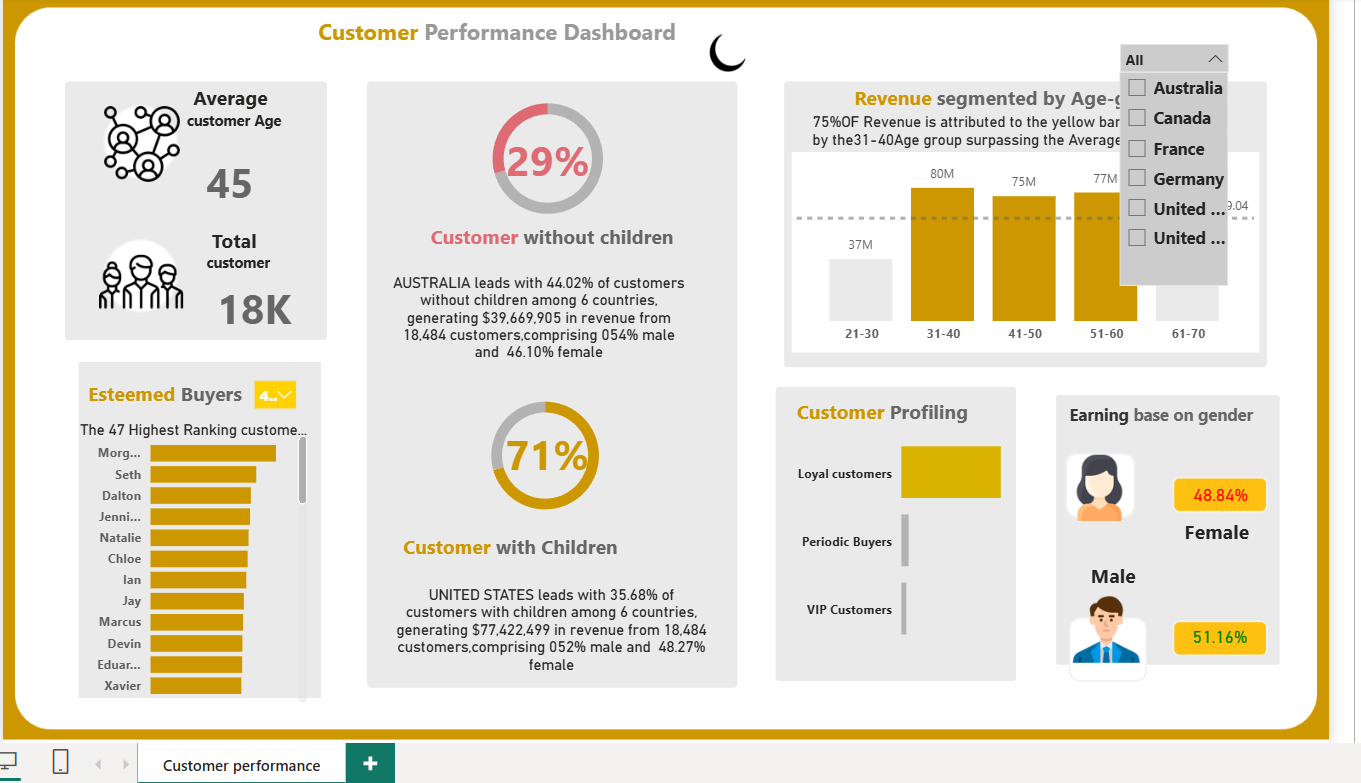

Layout of this report page (visuals, bound fields, positions):
{"tool":"powerbi","page":{"name":"Customer performance","canvas":[1280,720],"ordinal":0},"visuals":[{"type":"clusteredColumnChart","fields":{"Category":["DimCustomer.Age catagory"],"Y":["All measures.Total revenue","All measures.Total revenue"]},"box":[761.1,150,451.1,193.3],"z":0},{"type":"card","fields":{"Values":["Customer measures.Avg Caption"]},"box":[761.1,102.2,433.3,54.4],"z":1000},{"type":"textbox","box":[816.2,80,322.5,40],"z":2000},{"type":"donutChart","fields":{"Y":["Customer measures.%CWC_Revenue","Customer measures.%Customer Without Children _Revenue"]},"box":[441.1,84.4,168.9,143.3],"z":3000},{"type":"donutChart","fields":{"Y":["Customer measures.%CWC_Revenue","Customer measures.%Customer Without Children _Revenue"]},"box":[436.7,372.2,173.3,140],"z":4000},{"type":"card","fields":{"Values":["Customer measures.%Customer Without Children _Revenue"]},"box":[480,115.6,92.2,82.2],"z":5000},{"type":"card","fields":{"Values":["Customer measures.%CWC_Revenue"]},"box":[421.1,415.6,208.9,52.2],"z":6000},{"type":"textbox","box":[407.5,214.1,328,52.1],"z":7000},{"type":"textbox","box":[381.1,512.2,327.8,73.3],"z":8000},{"type":"card","fields":{"Values":["Customer measures.caption customers with children"]},"box":[362.2,246.7,314.4,125.6],"z":9000},{"type":"card","fields":{"Values":["Customer measures.caption customers without children"]},"box":[362.2,557.8,338.9,105.6],"z":10000},{"type":"clusteredBarChart","fields":{"Category":["DimCustomer.Customer type"],"Y":["All measures.Total revenue"]},"box":[761.2,395,216.2,255],"z":11000},{"type":"clusteredBarChart","fields":{"Category":["DimCustomer.FirstName"],"Y":["All measures.Dynamic customers"]},"box":[73.8,411.2,225,275],"z":12000},{"type":"slicer","fields":{"Values":["Dynamic Customers.Dynamic Customers"]},"box":[231.1,360,62.2,45.6],"z":13000},{"type":"card","fields":{"Values":["Customer measures.%Male"]},"box":[1115,586.2,120,63.8],"z":14000},{"type":"card","fields":{"Values":["Customer measures.%Female"]},"box":[1138.8,466.2,73.8,31.2],"z":15000},{"type":"card","fields":{"Values":["Customer measures.Average customer age"]},"box":[187.8,150,62.2,56.7],"z":16000},{"type":"card","fields":{"Values":["Customer measures.#Customers"]},"box":[187.5,276.2,111.2,47.5],"z":17000},{"type":"textbox","box":[137.8,80,155.6,70],"z":18000},{"type":"textbox","box":[160,216.7,142.2,60],"z":19000},{"type":"textbox","box":[1093.8,498.8,141.2,41.2],"z":20000},{"type":"textbox","box":[1003.8,540,161.2,52.5],"z":21000},{"type":"textbox","box":[77.5,365,172.5,35],"z":22000},{"type":"card","fields":{"Values":["Customer measures.Title Top Customers"]},"box":[68.8,400,230,36.2],"z":23000},{"type":"textbox","box":[1023.8,387.5,211.2,48.8],"z":24000},{"type":"textbox","box":[298.8,13.8,358.8,40],"z":25000},{"type":"slicer","fields":{"Values":["DimGeography.Country"]},"box":[1067.5,35,125,38.8],"z":26000},{"type":"textbox","box":[761.2,382.5,225,58.8],"z":27000}]}

Visuals, with their boxes on the page's 1280x720 design canvas (x1, y1, x2, y2). These are canvas units, not pixel positions in the 1361x783 screenshot, which may show the page scaled, cropped or inside an application window:
clusteredColumnChart - DimCustomer.Age catagory x All measures.Total revenue: l=761, t=150, r=1212, b=343
card - Customer measures.Avg Caption: l=761, t=102, r=1194, b=157
textbox: l=816, t=80, r=1139, b=120
donutChart - Customer measures.%CWC_Revenue x Customer measures.%Customer Without Children _Revenue: l=441, t=84, r=610, b=228
donutChart - Customer measures.%CWC_Revenue x Customer measures.%Customer Without Children _Revenue: l=437, t=372, r=610, b=512
card - Customer measures.%Customer Without Children _Revenue: l=480, t=116, r=572, b=198
card - Customer measures.%CWC_Revenue: l=421, t=416, r=630, b=468
textbox: l=408, t=214, r=736, b=266
textbox: l=381, t=512, r=709, b=586
card - Customer measures.caption customers with children: l=362, t=247, r=677, b=372
card - Customer measures.caption customers without children: l=362, t=558, r=701, b=663
clusteredBarChart - DimCustomer.Customer type x All measures.Total revenue: l=761, t=395, r=977, b=650
clusteredBarChart - DimCustomer.FirstName x All measures.Dynamic customers: l=74, t=411, r=299, b=686
slicer - Dynamic Customers.Dynamic Customers: l=231, t=360, r=293, b=406
card - Customer measures.%Male: l=1115, t=586, r=1235, b=650
card - Customer measures.%Female: l=1139, t=466, r=1213, b=497
card - Customer measures.Average customer age: l=188, t=150, r=250, b=207
card - Customer measures.#Customers: l=188, t=276, r=299, b=324
textbox: l=138, t=80, r=293, b=150
textbox: l=160, t=217, r=302, b=277
textbox: l=1094, t=499, r=1235, b=540
textbox: l=1004, t=540, r=1165, b=592
textbox: l=78, t=365, r=250, b=400
card - Customer measures.Title Top Customers: l=69, t=400, r=299, b=436
textbox: l=1024, t=388, r=1235, b=436
textbox: l=299, t=14, r=658, b=54
slicer - DimGeography.Country: l=1068, t=35, r=1192, b=74
textbox: l=761, t=382, r=986, b=441
